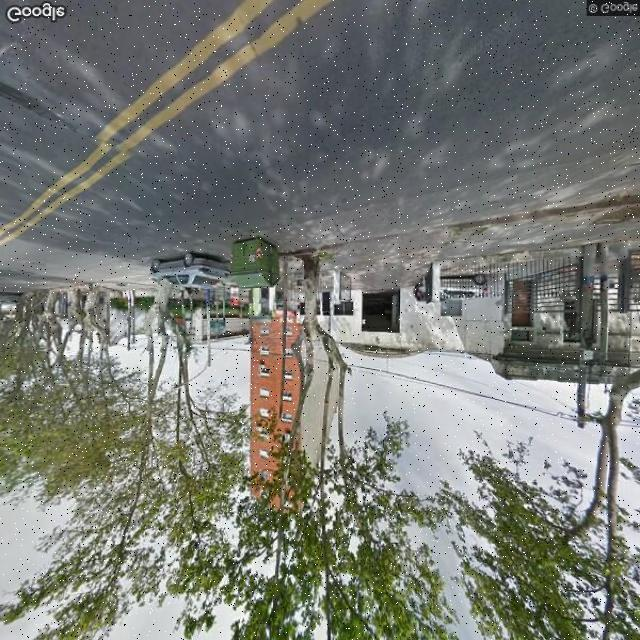garbage container: (227, 236, 288, 294)
